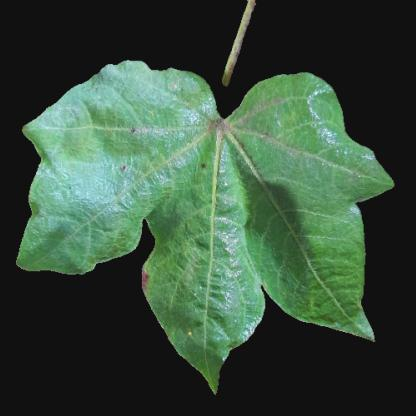healthy: (127, 120, 319, 218), (153, 240, 261, 340), (28, 177, 130, 265), (268, 228, 352, 302), (93, 70, 188, 126), (315, 150, 379, 196)
